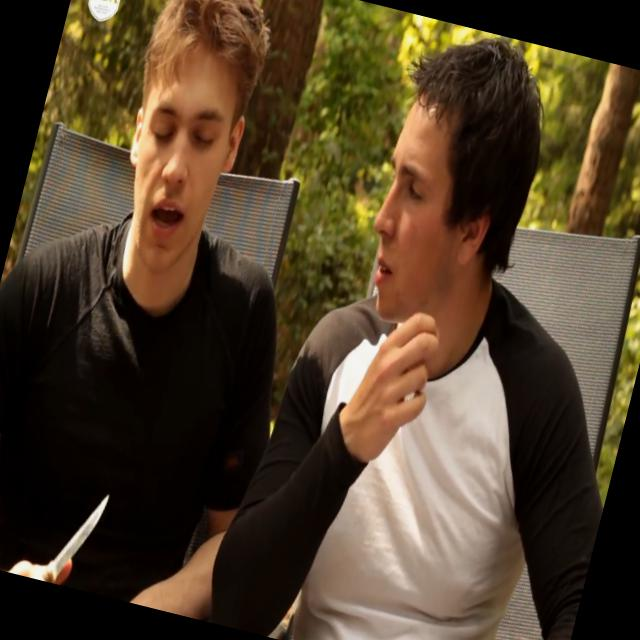knife: (14, 466, 120, 593)
